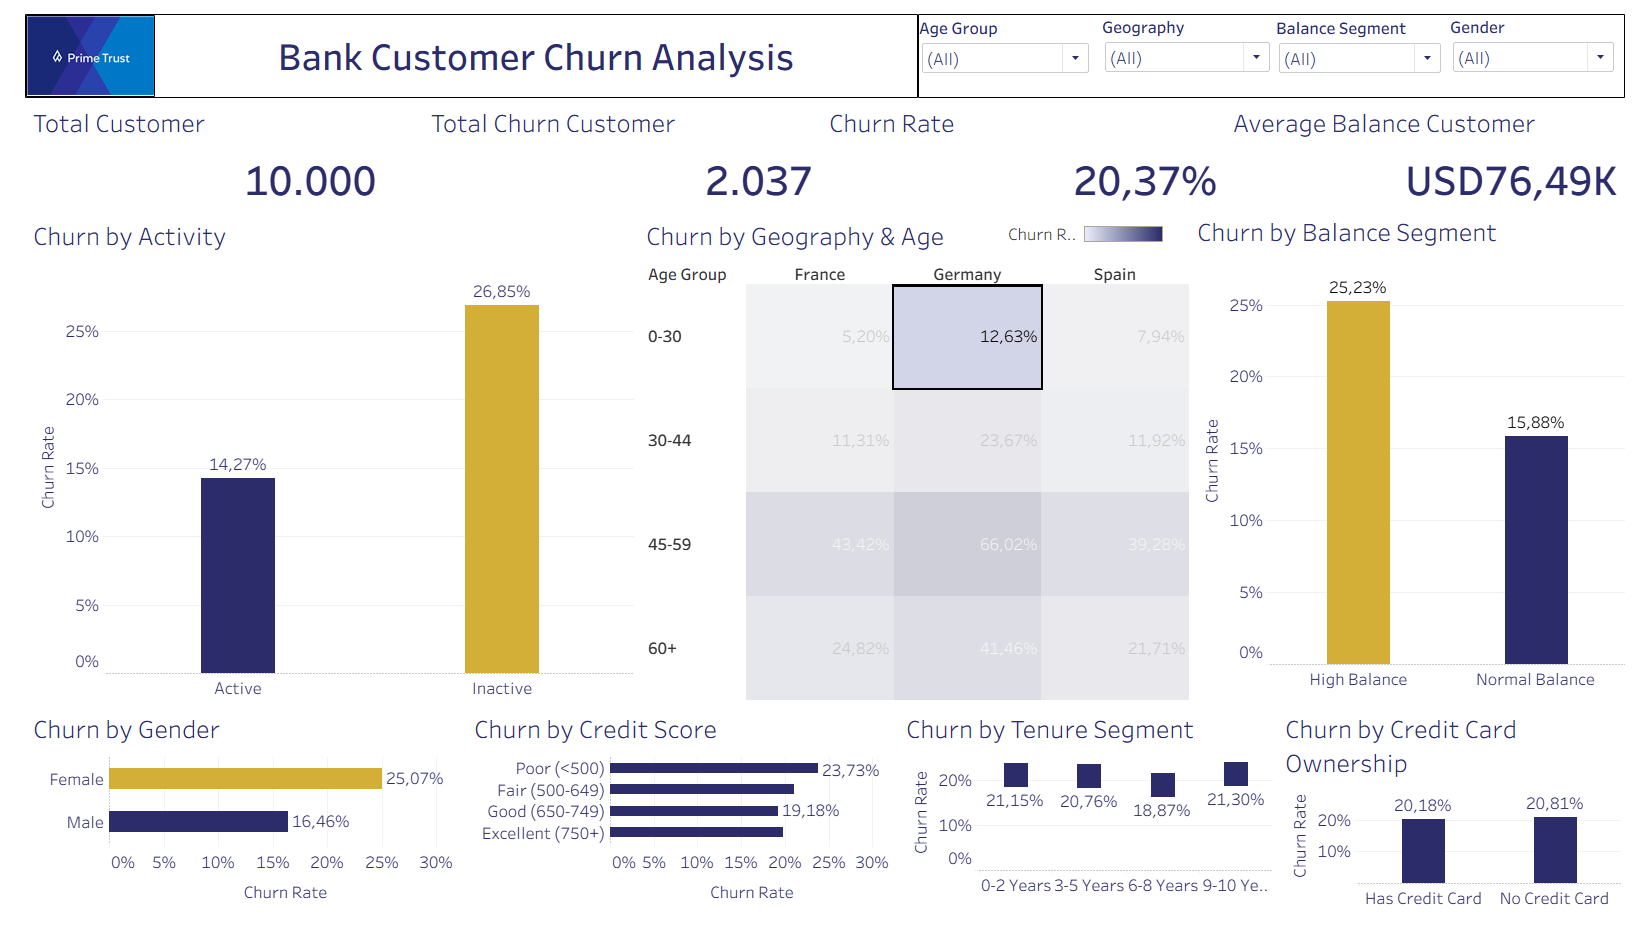

What the dashboard file says about the page in this screenshot:
{"tool":"tableau","page":{"name":"Dashboard (2)","canvas":[1600,900],"ordinal":1},"visuals":[{"type":"text","box":[130,1,761.9,82]},{"type":"image","param":"Image/Screenshot 2026-06-06 090449.png","box":[2,2,127,80]},{"type":"filter","title":"Average Balance Customer","param":"[federated.10u8v6p04nr2a3137wnn80pjja72].[none:Geography:nk]","box":[1077,2,171,77]},{"type":"filter","title":"Average Balance Customer","param":"[federated.10u8v6p04nr2a3137wnn80pjja72].[none:Gender:nk]","box":[1425,2,167,77]},{"type":"filter","title":"Average Balance Customer","param":"[federated.10u8v6p04nr2a3137wnn80pjja72].[none:Calculation_0401878553747464:nk]","box":[894,3,173,79]},{"type":"filter","title":"Average Balance Customer","param":"[federated.10u8v6p04nr2a3137wnn80pjja72].[none:Calculation_2174017181442051:nk]","box":[1251,3,168,76]},{"type":"worksheet","title":"Total Customer","mark":"Automatic","box":[0,84,398,112]},{"type":"worksheet","title":"Total Churn Customer","mark":"Automatic","box":[398,84,398,113.5]},{"type":"worksheet","title":"Churn Rate","mark":"Automatic","box":[796.1,84,403.9,113.5]},{"type":"worksheet","title":"Average Balance Customer","mark":"Automatic","box":[1200,84,400,113.5]},{"type":"worksheet","title":"Churn by Activity ","mark":"Bar","rows":["Calculation_2174017154334720"],"cols":["Calculation_0401878650363919"],"box":[0,197.5,613,492.6]},{"type":"worksheet","title":"Churn by Geography & Age","mark":"Square","rows":["Calculation_0401878553747464"],"cols":["Geography"],"box":[613,197.5,555,492.6]},{"type":"worksheet","title":"Churn by Balance Segment","mark":"Bar","rows":["Calculation_0401878539755522"],"cols":["Calculation_2174017181442051"],"box":[1168,197.5,432,492.6]},{"type":"legend","title":"Churn by Geography & Age","param":"[federated.10u8v6p04nr2a3137wnn80pjja72].[usr:Calculation_0401878539755522:qk]","box":[983,208,159,24]},{"type":"worksheet","title":"Churn by Gender","mark":"Automatic","rows":["Gender"],"cols":["Calculation_0401878539755522"],"box":[0,690,441,210]},{"type":"worksheet","title":"Churn by Credit Score","mark":"Automatic","rows":["Calculation_2174017219051526"],"cols":["Calculation_0401878539755522"],"box":[441,690,432,210]},{"type":"worksheet","title":"Churn by Tenure Segment","mark":"Square","rows":["Exited"],"cols":["Calculation_0401878558973961"],"box":[873,690,379,210]},{"type":"worksheet","title":"Churn by Credit Card Ownership","mark":"Automatic","rows":["Calculation_0401878539755522"],"cols":["Calculation_2174017216188421"],"box":[1252,690,348,210]}]}

Visuals, with their boxes in screenshot pixels (x1, y1, x2, y2), scaled from the page's 1600x900 canvas onto the 1644x928 screenshot:
text: pyautogui.locateOnScreen(134, 1, 916, 86)
image: pyautogui.locateOnScreen(2, 2, 133, 85)
"Average Balance Customer" filter: pyautogui.locateOnScreen(1107, 2, 1282, 81)
"Average Balance Customer" filter: pyautogui.locateOnScreen(1464, 2, 1636, 81)
"Average Balance Customer" filter: pyautogui.locateOnScreen(919, 3, 1096, 85)
"Average Balance Customer" filter: pyautogui.locateOnScreen(1285, 3, 1458, 81)
"Total Customer" worksheet: pyautogui.locateOnScreen(0, 87, 409, 202)
"Total Churn Customer" worksheet: pyautogui.locateOnScreen(409, 87, 818, 204)
"Churn Rate" worksheet: pyautogui.locateOnScreen(818, 87, 1233, 204)
"Average Balance Customer" worksheet: pyautogui.locateOnScreen(1233, 87, 1643, 204)
"Churn by Activity " worksheet (Bar marks): pyautogui.locateOnScreen(0, 204, 630, 712)
"Churn by Geography & Age" worksheet (Square marks): pyautogui.locateOnScreen(630, 204, 1200, 712)
"Churn by Balance Segment" worksheet (Bar marks): pyautogui.locateOnScreen(1200, 204, 1643, 712)
"Churn by Geography & Age" legend: pyautogui.locateOnScreen(1010, 214, 1173, 239)
"Churn by Gender" worksheet: pyautogui.locateOnScreen(0, 711, 453, 927)
"Churn by Credit Score" worksheet: pyautogui.locateOnScreen(453, 711, 897, 927)
"Churn by Tenure Segment" worksheet (Square marks): pyautogui.locateOnScreen(897, 711, 1286, 927)
"Churn by Credit Card Ownership" worksheet: pyautogui.locateOnScreen(1286, 711, 1643, 927)
